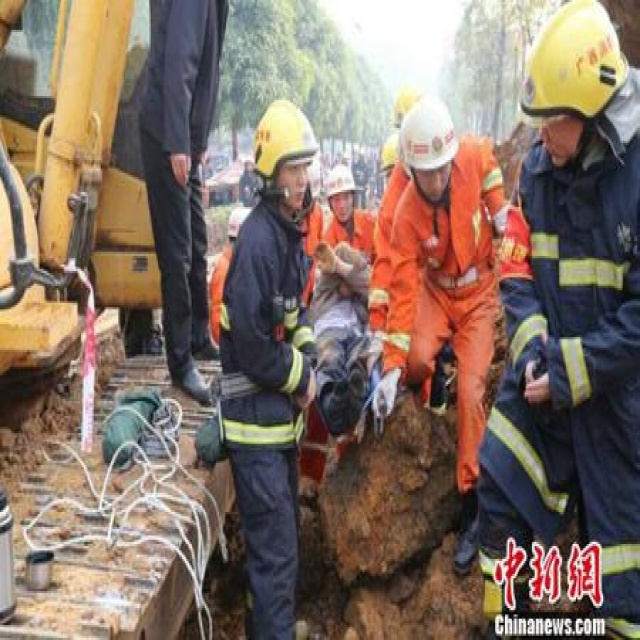Helmet: (509, 1, 640, 190), (242, 90, 329, 225), (390, 88, 466, 215)
Reflective vest: (504, 138, 640, 429), (217, 211, 324, 443)
